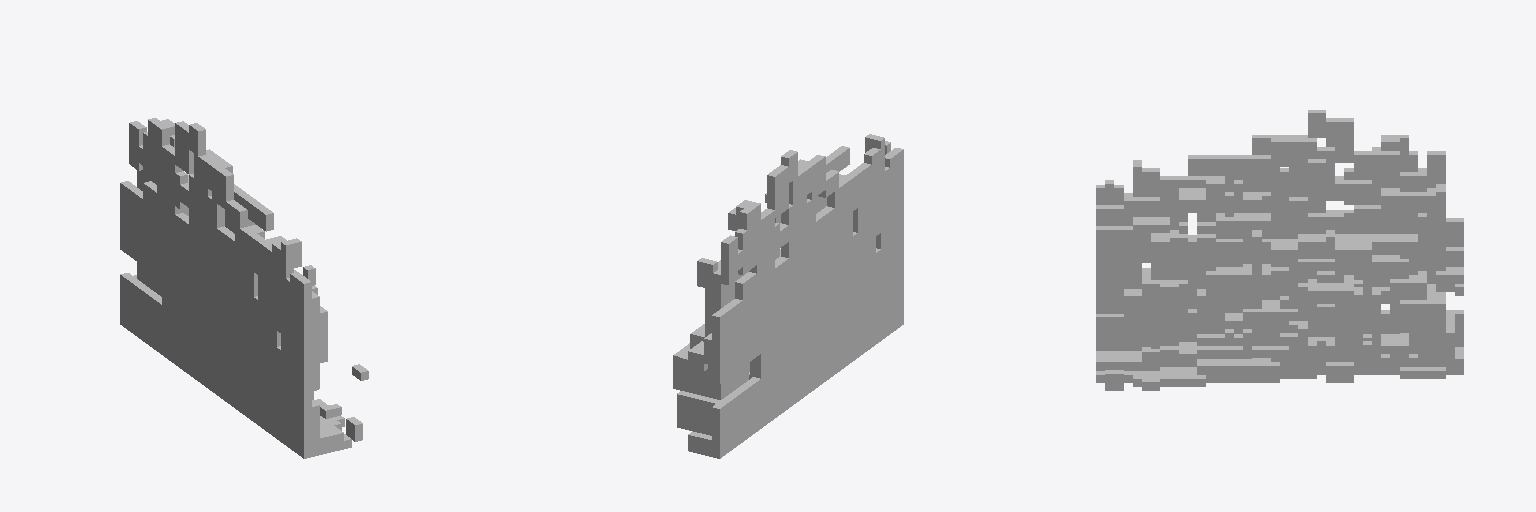
File: wall3.obj
3 views of the same model, side by side, from view 1: azimuth 30°, elevation 25°; view 2: azimuth 150°, elevation 25°; view 3: azimuth 270°, elevation 25° (orthographic).
Visible parts, largest first — view 1: wall3; view 2: wall3; view 3: wall3.
Boxes of the visible parts, <box> form: wall3: <box>120,118,368,458</box>; wall3: <box>673,134,903,458</box>; wall3: <box>1096,110,1463,390</box>.
Bounding box in the file's own units: 11 × 30 × 40.